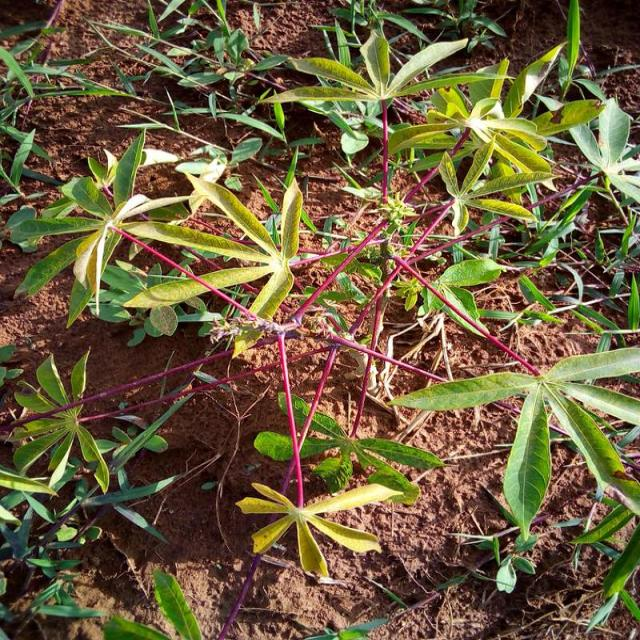cassava leaf: (503, 381, 553, 542)
